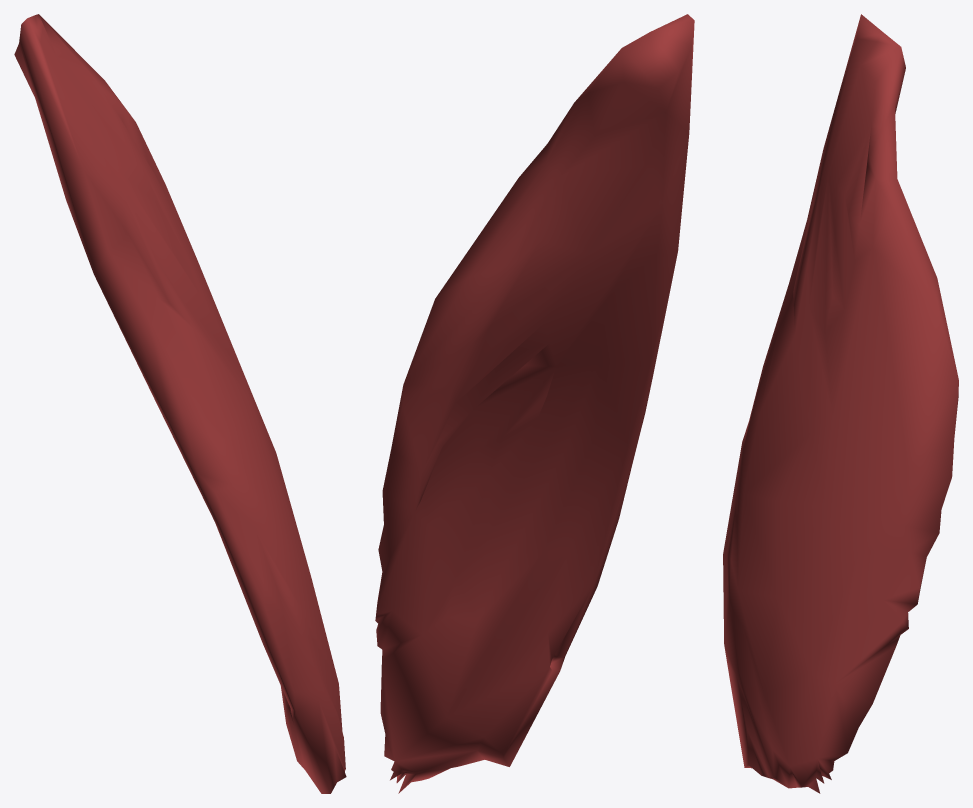
Rendered from opponens-digiti-minimi-muscle-of-hand-r.glb.
3 views of the same model, side by side, from view 1: azimuth 30°, elevation 25°; view 2: azimuth 150°, elevation 25°; view 3: azimuth 270°, elevation 25° (orthographic). The views are drawn at different scales.
Visible parts, largest first — view 1: Opponens digiti minimi muscle of hand.r; view 2: Opponens digiti minimi muscle of hand.r; view 3: Opponens digiti minimi muscle of hand.r.
Boxes of the visible parts, x1,y1,x2,y2 form: Opponens digiti minimi muscle of hand.r: [14, 14, 346, 793]; Opponens digiti minimi muscle of hand.r: [375, 14, 694, 793]; Opponens digiti minimi muscle of hand.r: [723, 14, 958, 793].
Size of the model in its own units: 0.0184 by 0.0477 by 0.0154.
